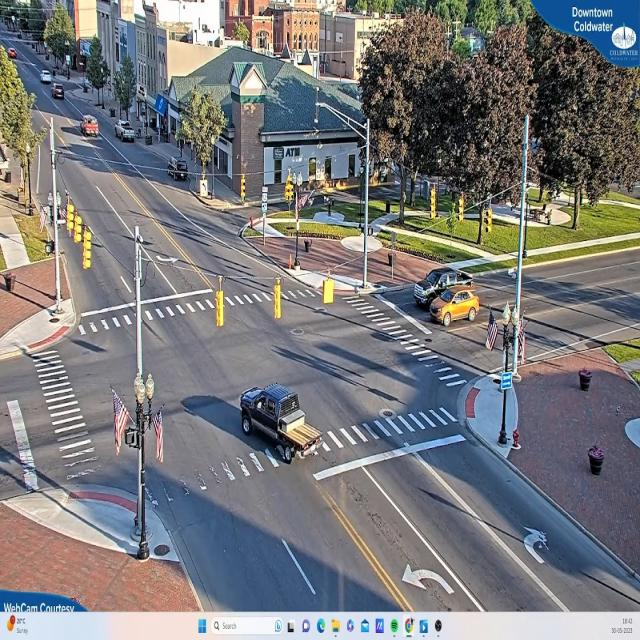car: (426, 286, 482, 322), (413, 266, 450, 301), (78, 116, 98, 142), (116, 124, 136, 142), (53, 85, 65, 100)
